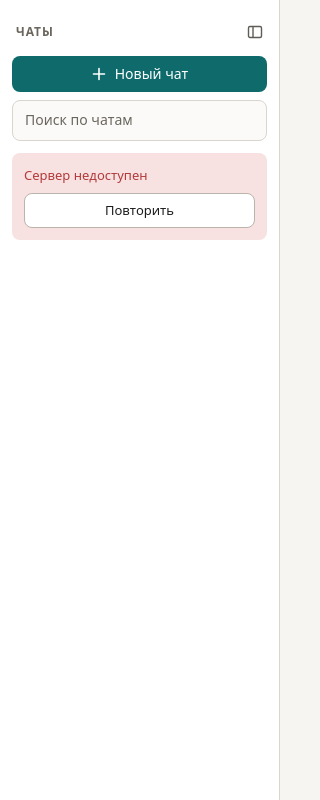
ChatList › shows «Сервер недоступен» with a retry button when the list request fails
expect the text "Сервер недоступен" is shown: met, box [24,166,148,184]
What coordinates should you click on to do the following:
click the button "Повторить"
I would click on:
 (140, 211)
Its box is [24,193,255,228].
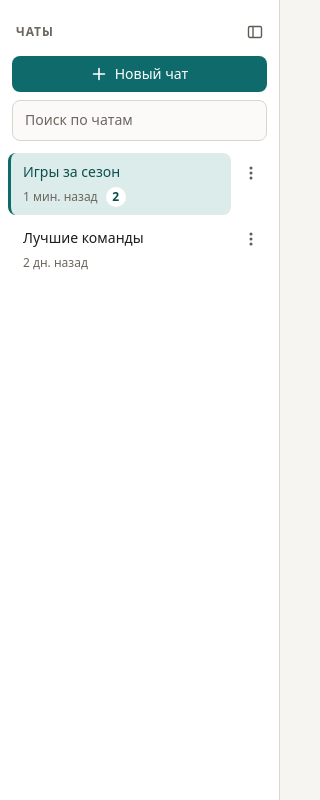
expect the text "Сервер недоступен" is gone: met
expect the link "Игры за сезон 1 мин. назад 2" is shown: met, box [8,153,231,215]
